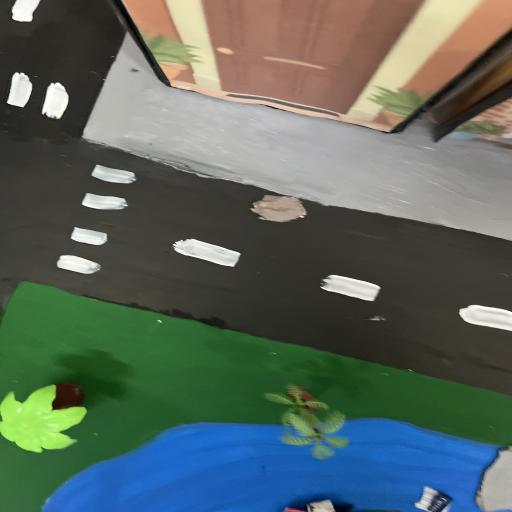encroachment: (472, 441, 512, 512)
porthole: (248, 188, 314, 226)
trash: (279, 485, 456, 512)
